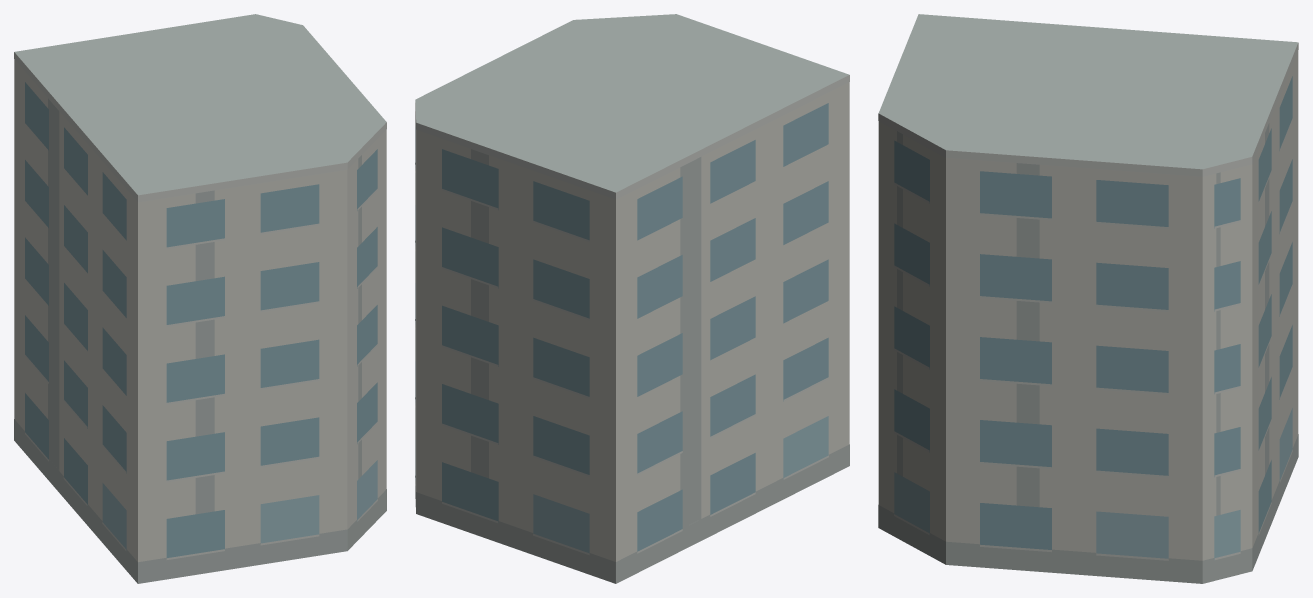
Rendered from survey-upis-32646404.glb.
3 views of the same model, side by side, from view 1: azimuth 30°, elevation 25°; view 2: azimuth 150°, elevation 25°; view 3: azimuth 270°, elevation 25° (orthographic). The views are drawn at different scales.
Parts seen in each view (by area): view 1: survey-upis-32646404.tmp; view 2: survey-upis-32646404.tmp; view 3: survey-upis-32646404.tmp.
Boxes of the visible parts, <box> form: survey-upis-32646404.tmp: <box>14,14,386,583</box>; survey-upis-32646404.tmp: <box>415,14,849,583</box>; survey-upis-32646404.tmp: <box>878,14,1298,583</box>.
Bounding box in the file's own units: 10.78 × 13.4 × 12.31.
